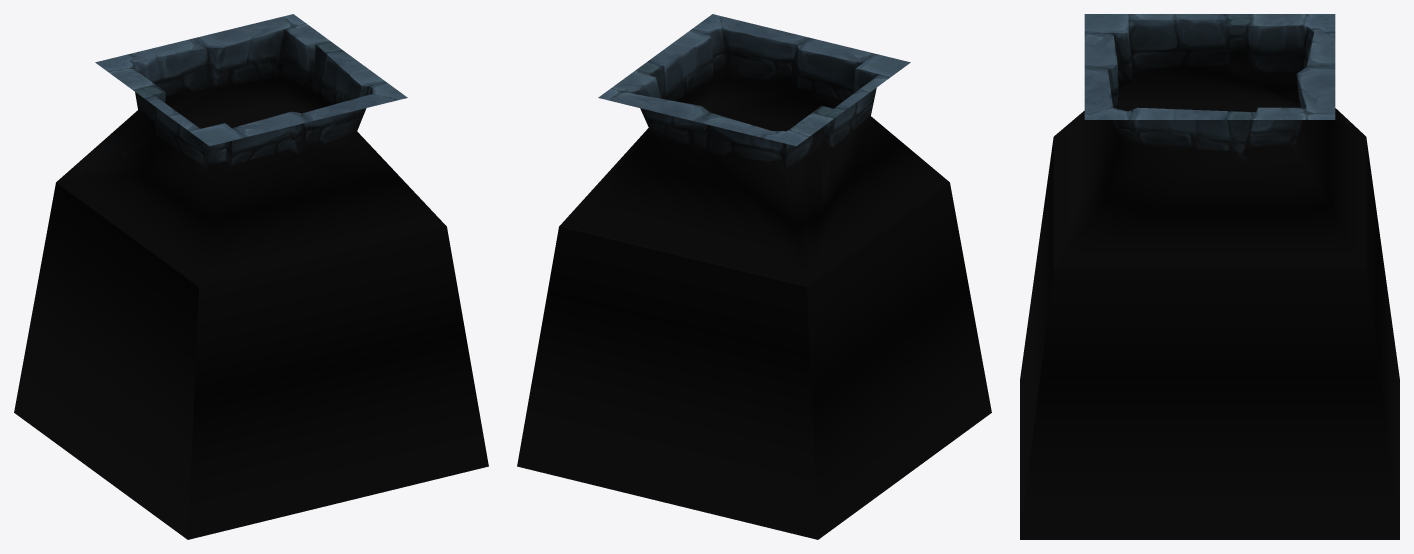
The model's file is floor_pit_01.fbx.
The picture shows the model from 3 angles, left to right: view 1: azimuth 30°, elevation 25°; view 2: azimuth 150°, elevation 25°; view 3: azimuth 270°, elevation 25°; orthographic projection. The views are drawn at different scales.
Visible parts, largest first — view 1: floor_pit_01; view 2: floor_pit_01; view 3: floor_pit_01.
Part boxes in pixels (x1,y1,x2,y2): floor_pit_01: (14,14,488,539); floor_pit_01: (517,14,991,539); floor_pit_01: (1020,14,1399,539).
Size of the model in its own units: 303 by 346 by 303.
